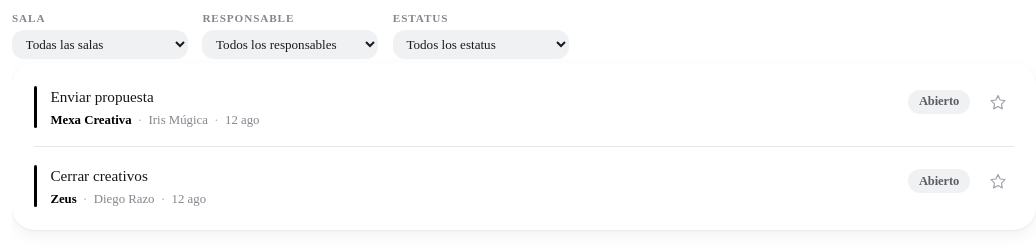
Test: TablaAcuerdos, filtros › filtra por sala
The width and height of the screenshot is (1036, 249).
Select "Zeus" in the dropdown labelled "Sala" at (100,44), box [12,30,188,59]
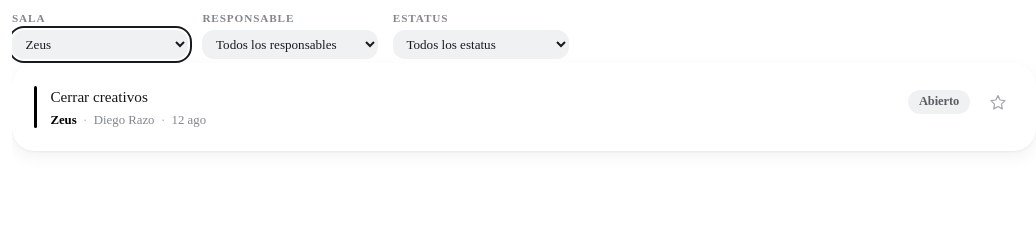
Expected: the text "Cerrar creativos" is shown, [50,88,148,105]
Expected: the text "Enviar propuesta" is gone
